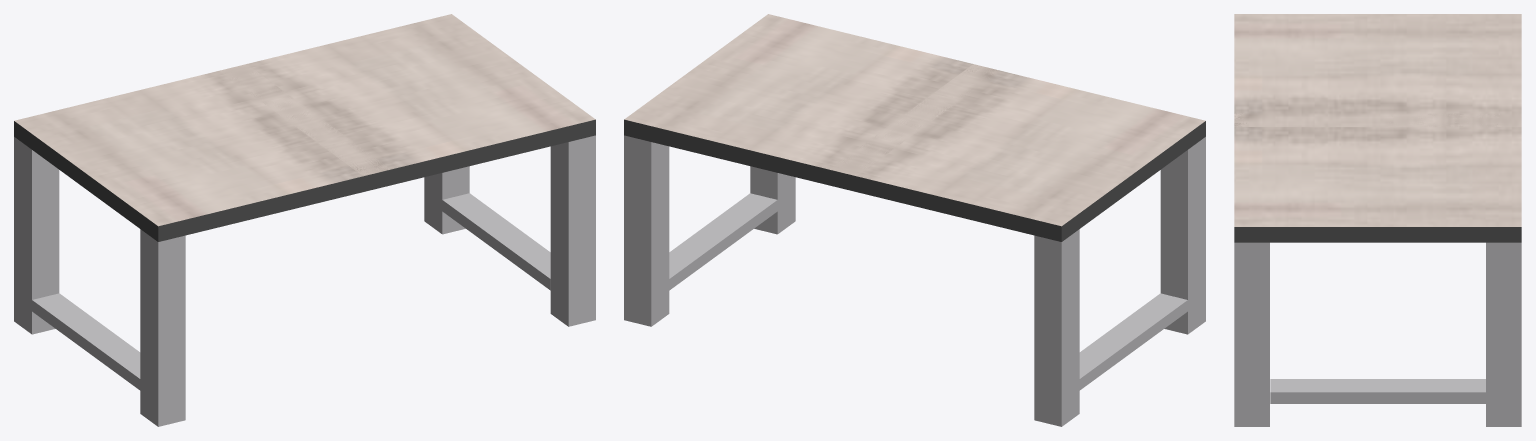
Rendered from ScienceTable.fbx.
3 renders of one model, left to right at view 1: azimuth 30°, elevation 25°; view 2: azimuth 150°, elevation 25°; view 3: azimuth 270°, elevation 25°, orthographic.
Visible parts, largest first — view 1: Cube; view 2: Cube; view 3: Cube.
Boxes of the visible parts, x1,y1,x2,y2 form: Cube: (14, 14, 595, 426); Cube: (624, 14, 1205, 426); Cube: (1234, 14, 1521, 426).
Bounding box in the file's own units: 1735 × 760 × 990.
4 materials, 1 textured.
